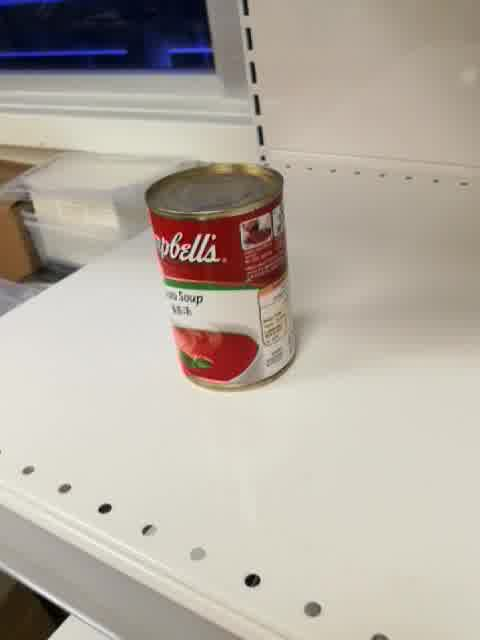tomatosoup: (143, 160, 299, 393)
